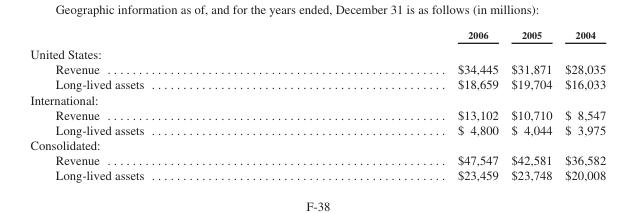table: (29, 28, 605, 182)
table column: (29, 28, 300, 182), (300, 28, 504, 182), (504, 28, 557, 182), (557, 28, 605, 182)
table column header: (29, 28, 605, 43)
table projected row header: (29, 43, 605, 61), (29, 91, 605, 106), (29, 137, 605, 152)
table row: (29, 43, 605, 61), (29, 106, 605, 122), (29, 28, 605, 43), (29, 61, 605, 76), (29, 76, 605, 91), (29, 91, 605, 106), (29, 122, 605, 137), (29, 137, 605, 152), (29, 152, 605, 167), (29, 167, 605, 182)
